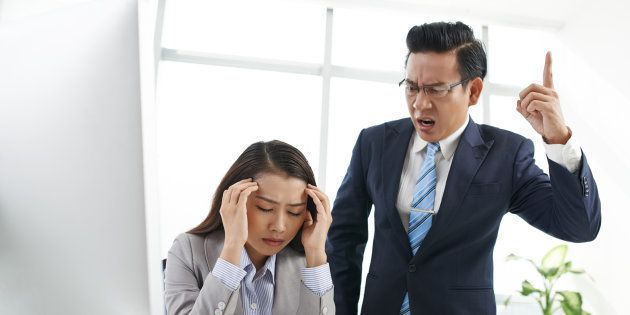without_mask: (245, 179, 306, 257), (402, 69, 460, 141)
